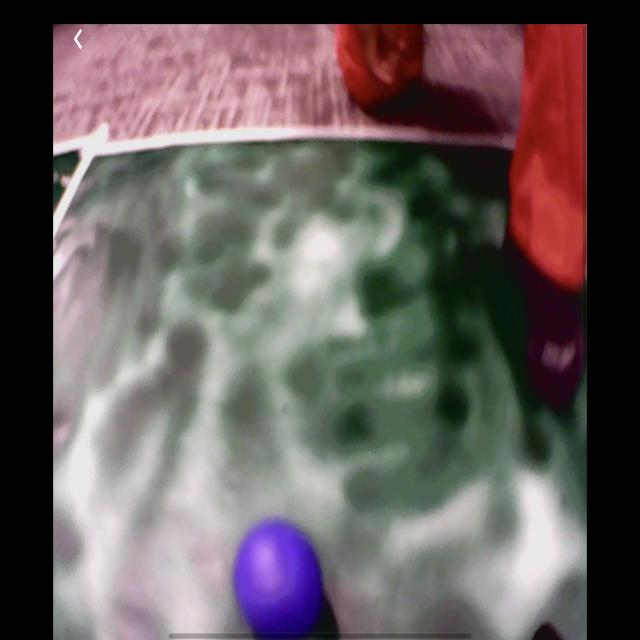ball: (234, 516, 322, 640)
